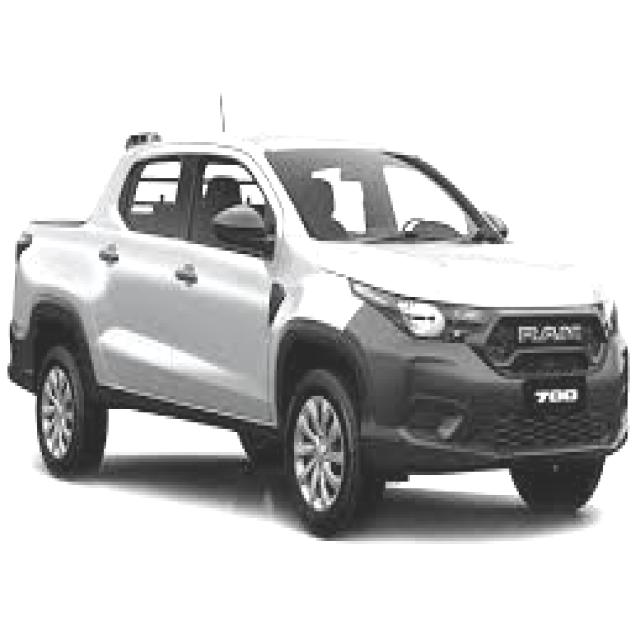CMT: (5, 126, 629, 544)
